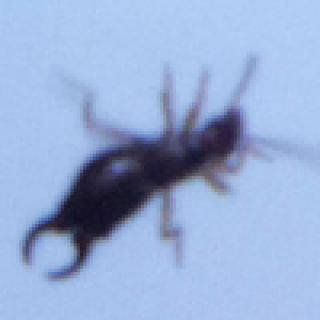earwig: (17, 47, 308, 284)
